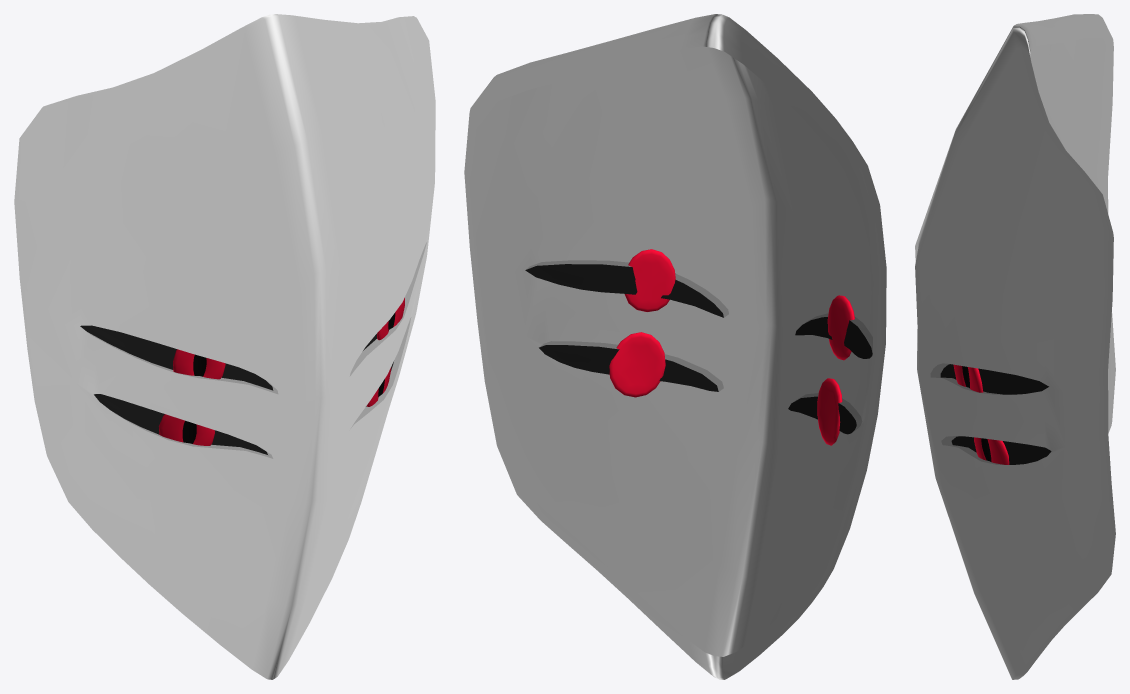
Rendered from MASK.fbx.
3 views of the same model, side by side, from view 1: azimuth 30°, elevation 25°; view 2: azimuth 150°, elevation 25°; view 3: azimuth 270°, elevation 25° (orthographic). The views are drawn at different scales.
Parts seen in each view (by area): view 1: mask; view 2: mask; view 3: mask.
Part boxes in pixels (bbox=[...]): mask: bbox=[14, 14, 435, 679]; mask: bbox=[464, 14, 886, 679]; mask: bbox=[915, 14, 1115, 679].
Size of the model in its own units: 16.36 by 24.81 by 6.94.
1 material, 1 textured.
